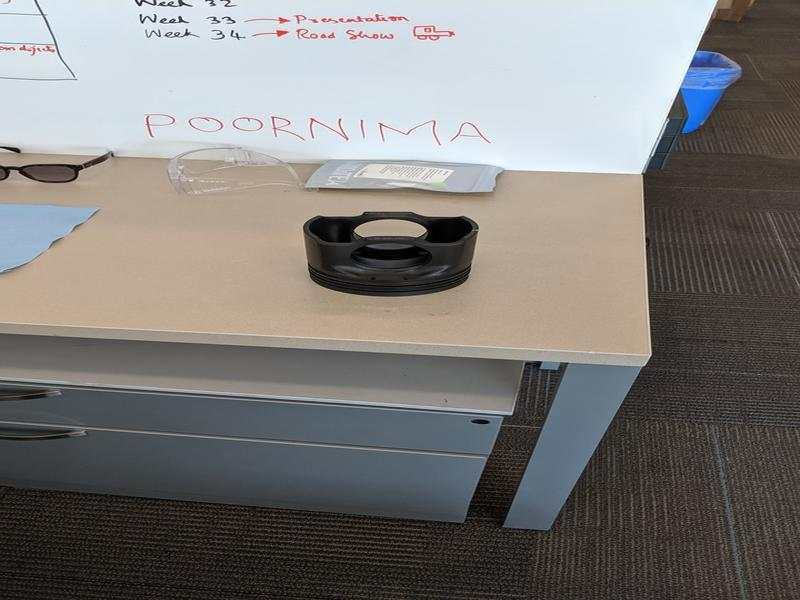piston: (300, 209, 483, 300)
